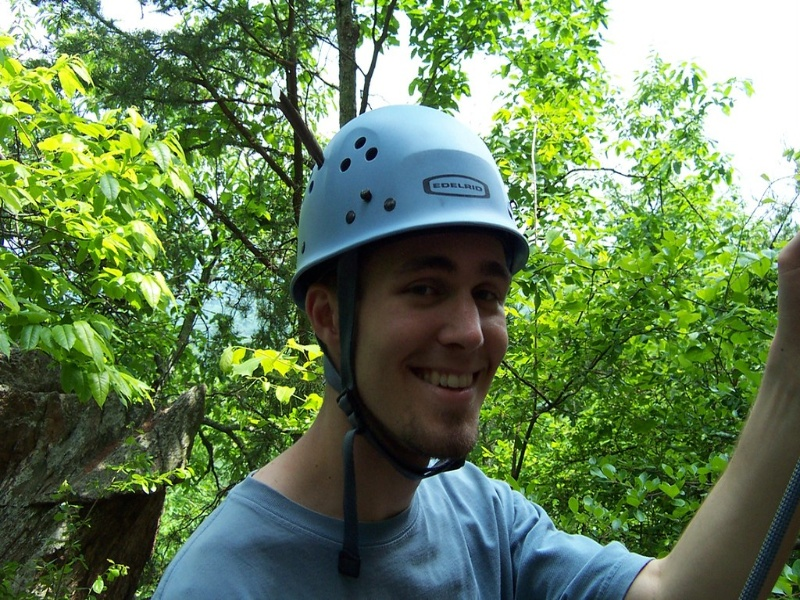Baret: (296, 105, 533, 272)
